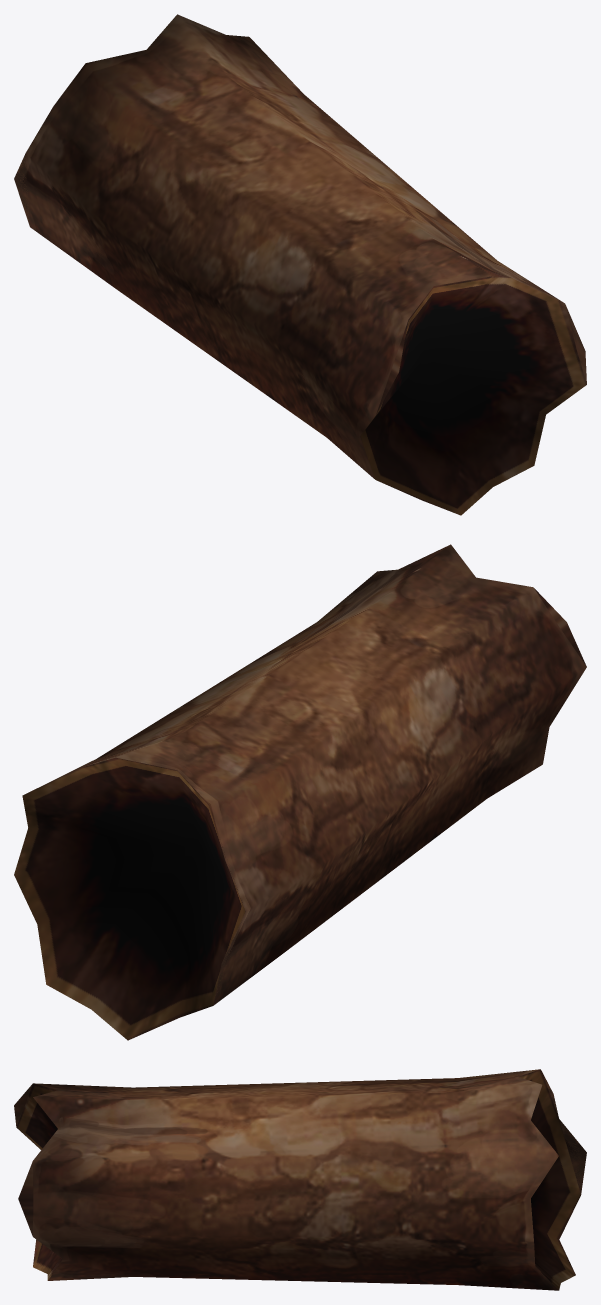
File: Fallen_tree.fbx
3 views of the same model, one above another, from view 1: azimuth 30°, elevation 25°; view 2: azimuth 150°, elevation 25°; view 3: azimuth 270°, elevation 25° (orthographic). The views are drawn at different scales.
Visible parts, largest first — view 1: Fallen_tree; view 2: Fallen_tree; view 3: Fallen_tree.
Part boxes in pixels (bbox=[...]): Fallen_tree: bbox=[14, 14, 586, 515]; Fallen_tree: bbox=[14, 544, 586, 1040]; Fallen_tree: bbox=[14, 1069, 586, 1290].
Size of the model in its own units: 108 by 107 by 272.
